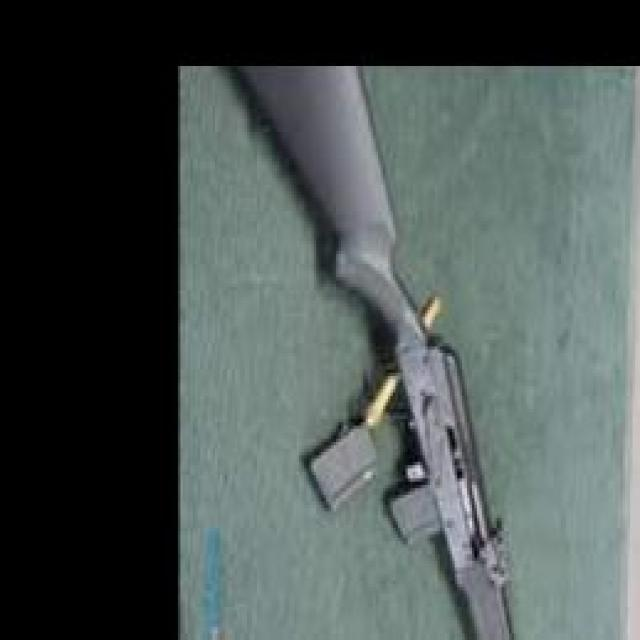weapon: (224, 65, 516, 640)
